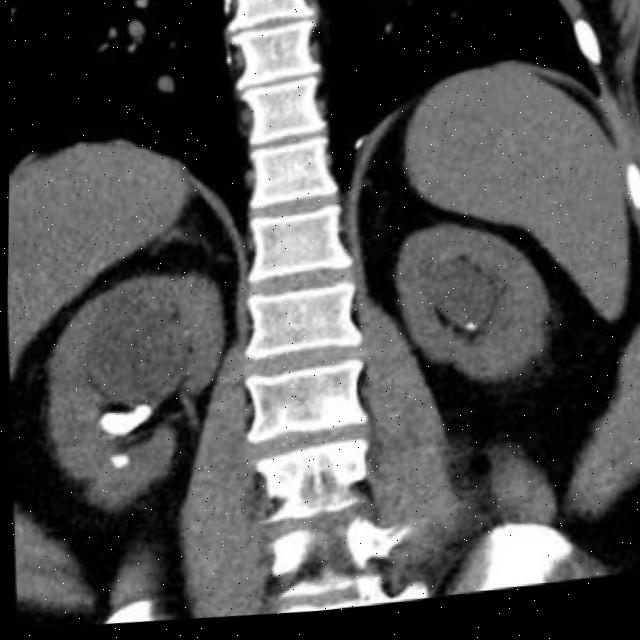Tas_Var: (89, 392, 155, 447), (101, 448, 130, 475), (458, 326, 480, 344)
